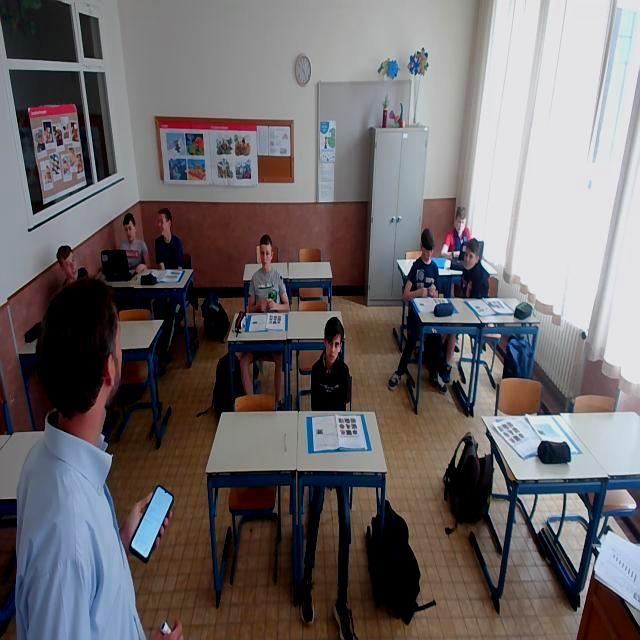Looking away: (453, 206, 471, 242), (158, 210, 174, 239)
Looking forward: (319, 319, 347, 364), (56, 246, 87, 282), (252, 235, 278, 271), (460, 238, 484, 275), (119, 215, 141, 245)
Phone use: (124, 476, 174, 560), (402, 230, 450, 293)
